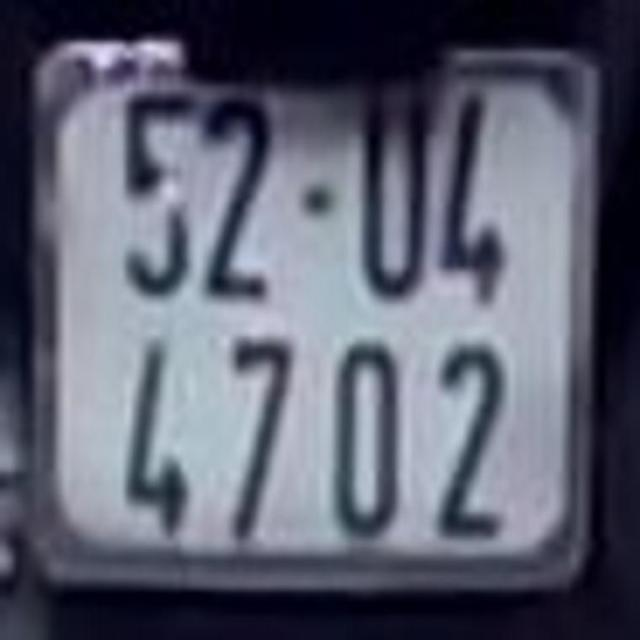0: (329, 335, 403, 536)
2: (201, 85, 275, 306), (431, 333, 508, 544)
4: (436, 88, 513, 305), (119, 331, 192, 536)
5: (120, 84, 196, 308)
7: (228, 326, 295, 548)
U: (356, 70, 429, 304)
